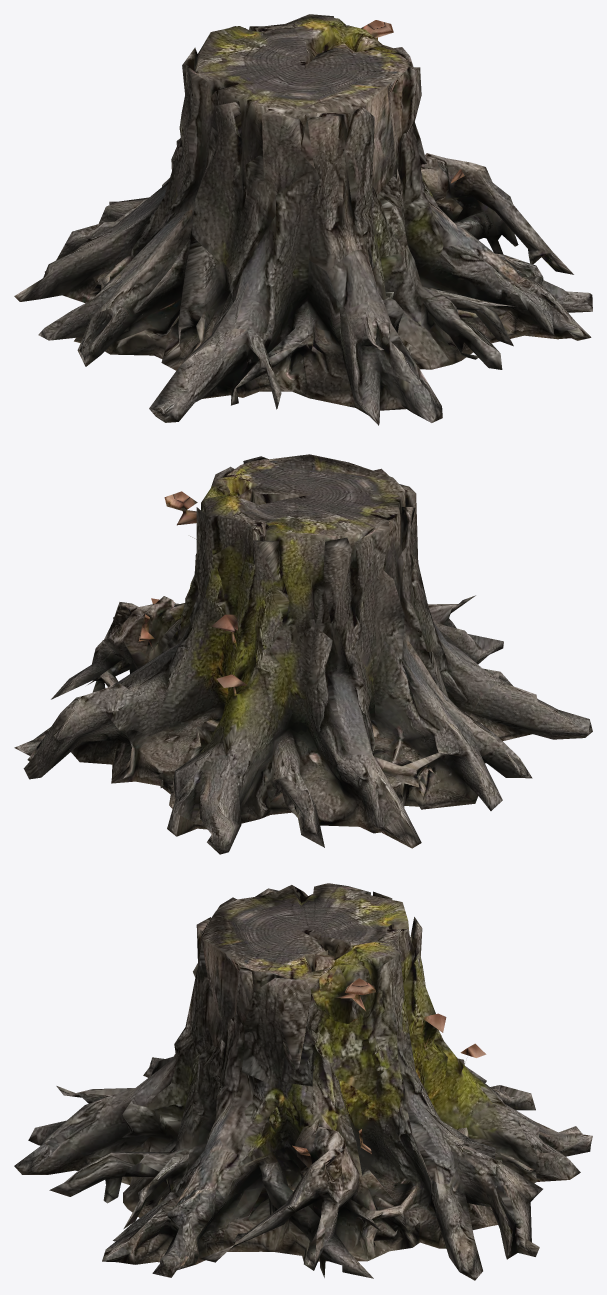
Rendered from tocon.glb.
3 renders of one model, top to bottom at view 1: azimuth 30°, elevation 25°; view 2: azimuth 150°, elevation 25°; view 3: azimuth 270°, elevation 25°, orthographic. The views are drawn at different scales.
Parts seen in each view (by area): view 1: tripo_node_21fb7059-edf4-443e-9781-535fbd459790; view 2: tripo_node_21fb7059-edf4-443e-9781-535fbd459790; view 3: tripo_node_21fb7059-edf4-443e-9781-535fbd459790.
Boxes of the visible parts, left/top/right/bottom form: tripo_node_21fb7059-edf4-443e-9781-535fbd459790: left=14, top=14, right=592, bottom=425; tripo_node_21fb7059-edf4-443e-9781-535fbd459790: left=14, top=454, right=592, bottom=854; tripo_node_21fb7059-edf4-443e-9781-535fbd459790: left=14, top=883, right=592, bottom=1280.
Bounding box in the file's own units: 0.8993 × 0.4859 × 0.9953.
Materials: 1 (1 with a texture image).
